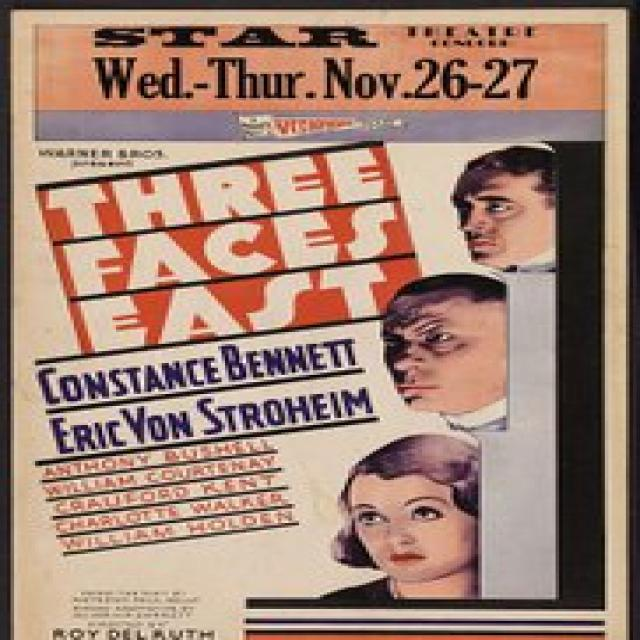movie-judul: (36, 162, 404, 328)
picture: (335, 145, 588, 630)
